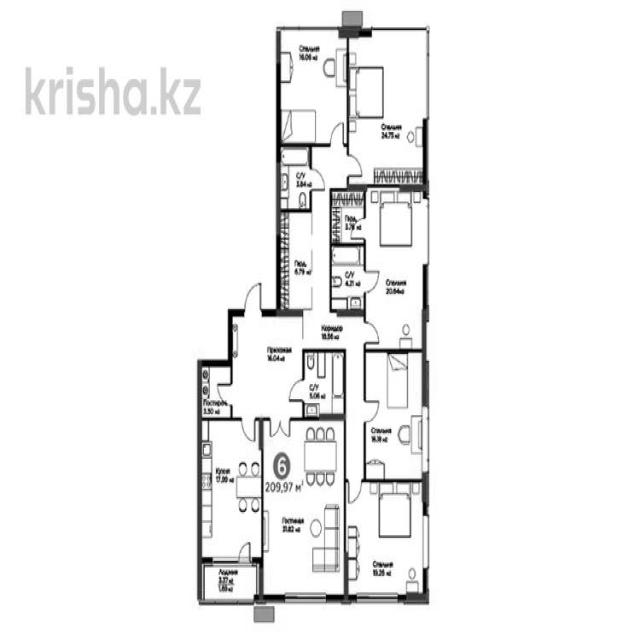balcony: (201, 562, 261, 600)
bathroom: (304, 350, 344, 415), (279, 146, 312, 210), (331, 246, 363, 311), (280, 146, 310, 208), (201, 364, 231, 418)
hallway: (231, 314, 303, 417), (305, 313, 362, 347)
kitchen: (200, 418, 262, 560)
living_room: (264, 420, 344, 596), (349, 33, 425, 184), (364, 187, 425, 348), (348, 352, 424, 476), (346, 481, 425, 597), (278, 31, 347, 142)
other: (280, 211, 312, 309), (331, 192, 362, 244)
